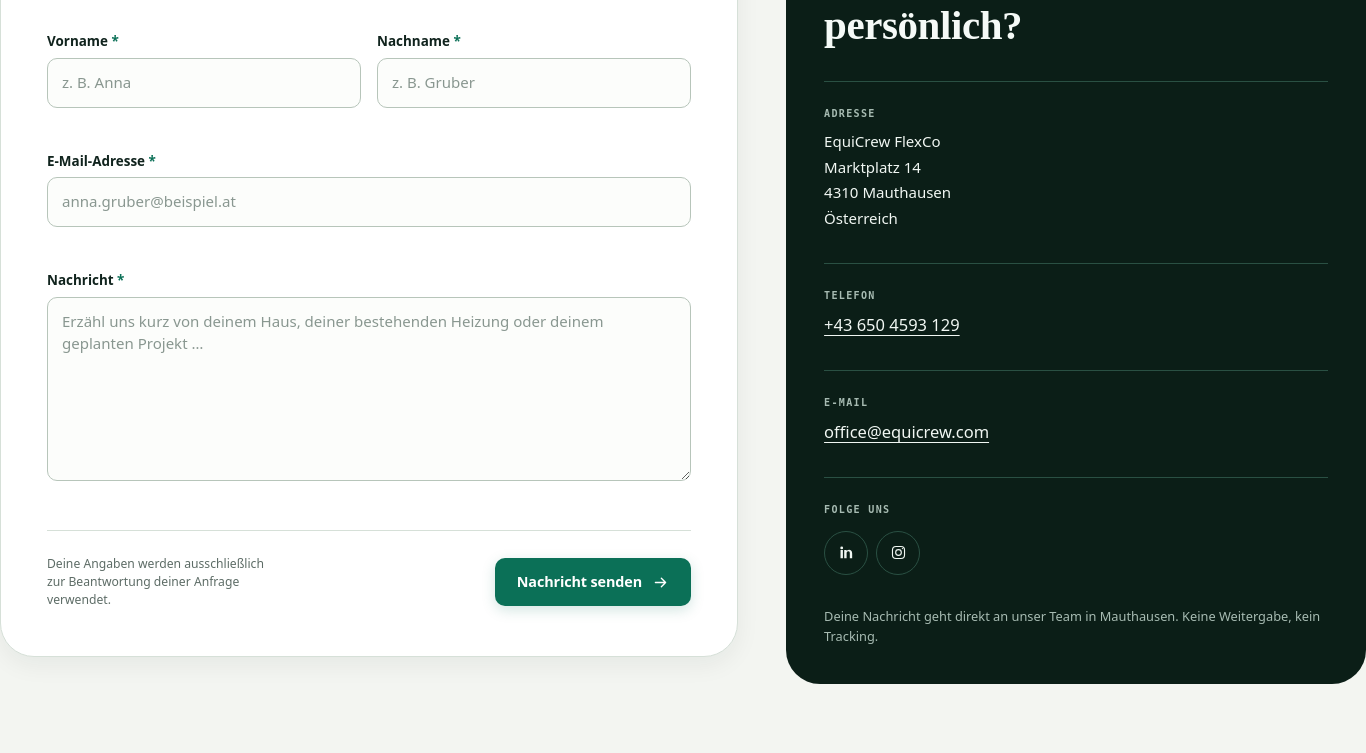
Kontaktseite › marks each field with its message when an invalid form is submitted
The width and height of the screenshot is (1366, 753).
(page scrolled)
Click the button "Nachricht senden": click(593, 582) x1=495 y1=558 x2=691 y2=606
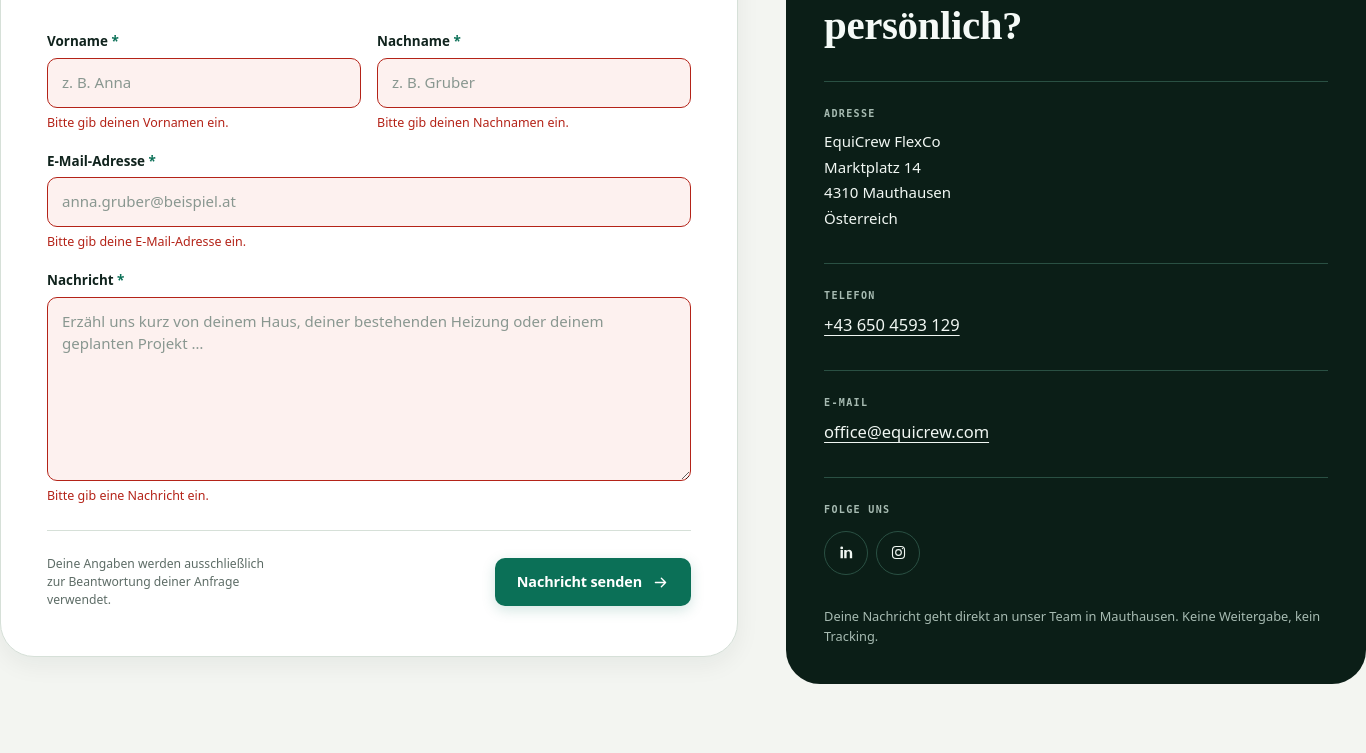
Result: the text "Bitte gib deinen Vornamen ein." is shown at x1=47 y1=114 x2=229 y2=131
Result: the text "Bitte gib deinen Nachnamen ein." is shown at x1=377 y1=114 x2=569 y2=131
Result: the text "Bitte gib deine E-Mail-Adresse ein." is shown at x1=47 y1=233 x2=246 y2=250
